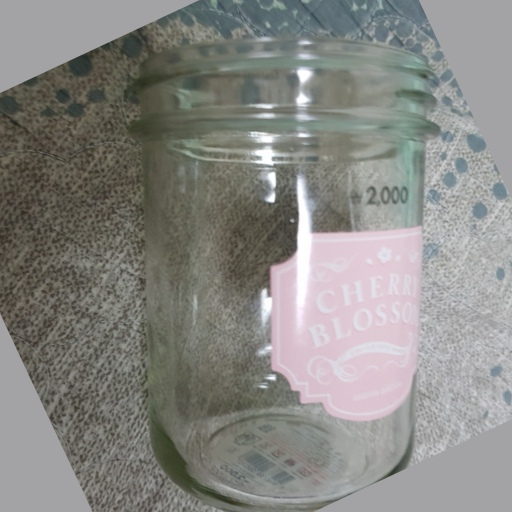Glass_5: (127, 34, 432, 502)
